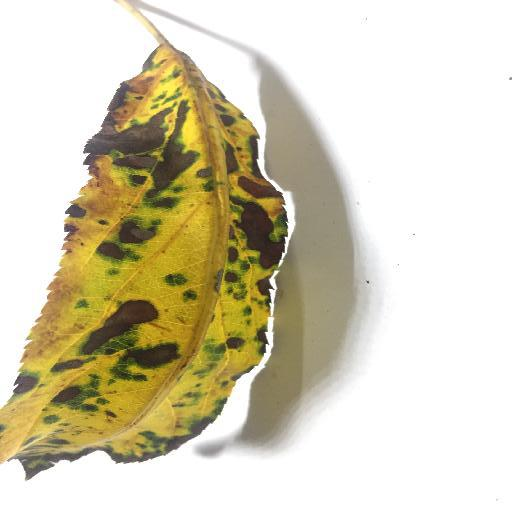Brown_Spot: (70, 62, 178, 262), (208, 97, 275, 366), (16, 292, 169, 403)
